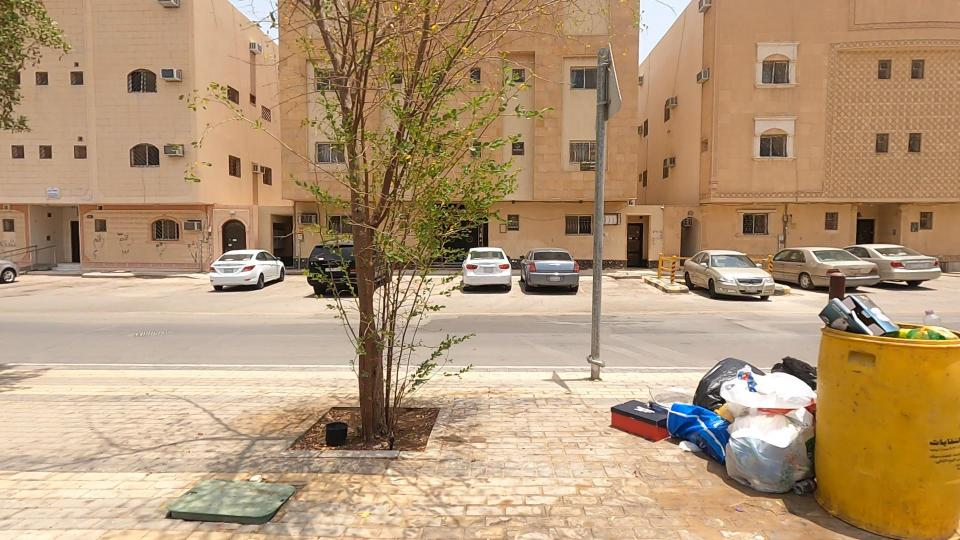GARBAGE: (479, 264, 930, 540), (735, 243, 960, 372)
